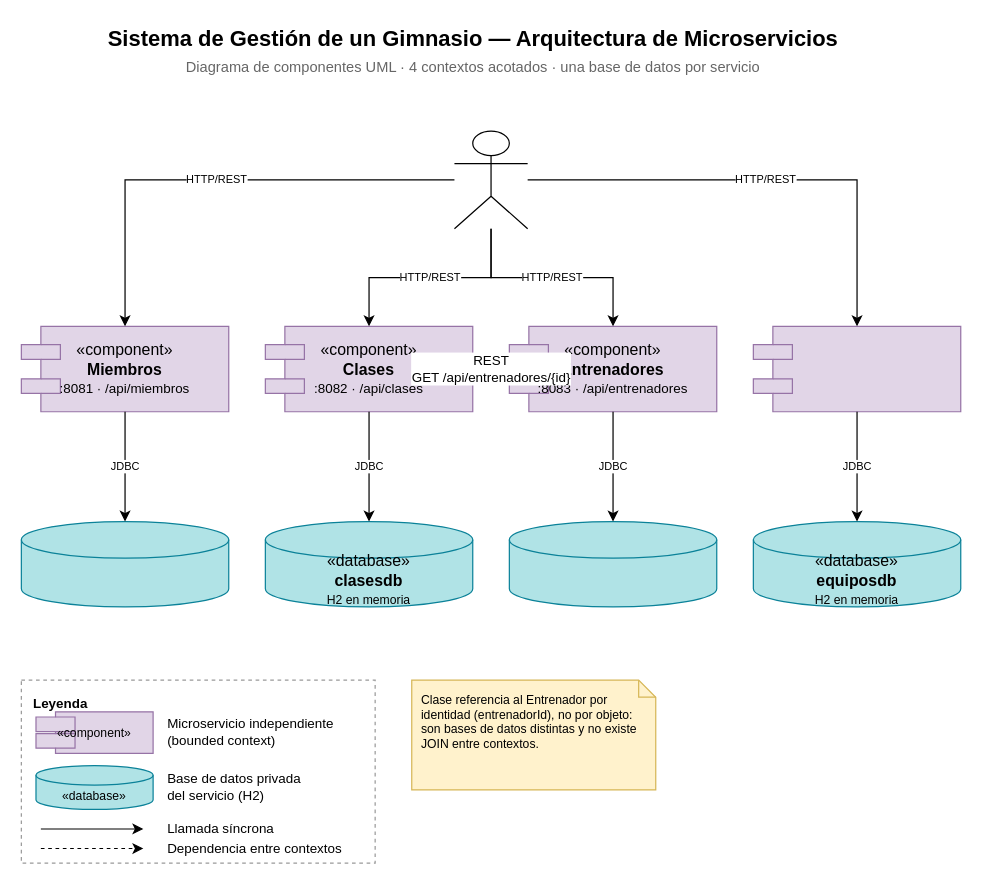
Image size: 982x885. Some labels were removed from this diagram. The centre of each missing label's shape, as x and y in pixels:
Cliente (Postman): point 490,179
«component» Equipos :8084 · /api/equipos: point 856,368
«database» entrenadoresdb H2 en memoria: point 612,563
«database» miembrosdb H2 en memoria: point 124,563
